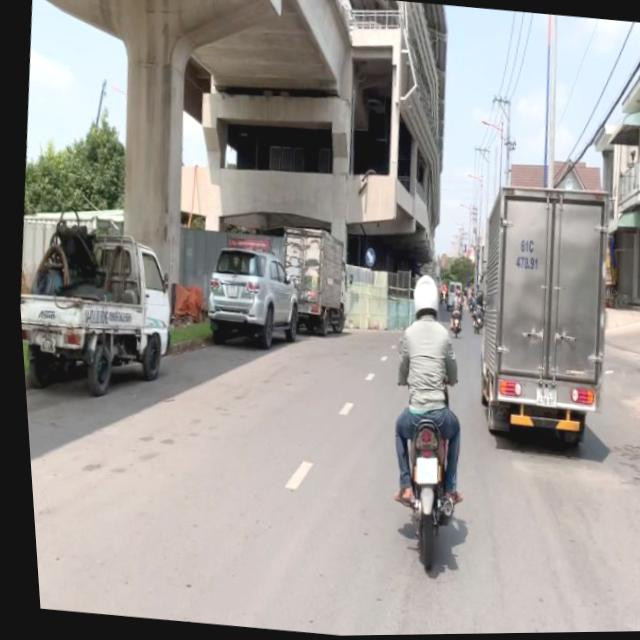Vong chuong ngai vat sang phai: (360, 248, 372, 268)
